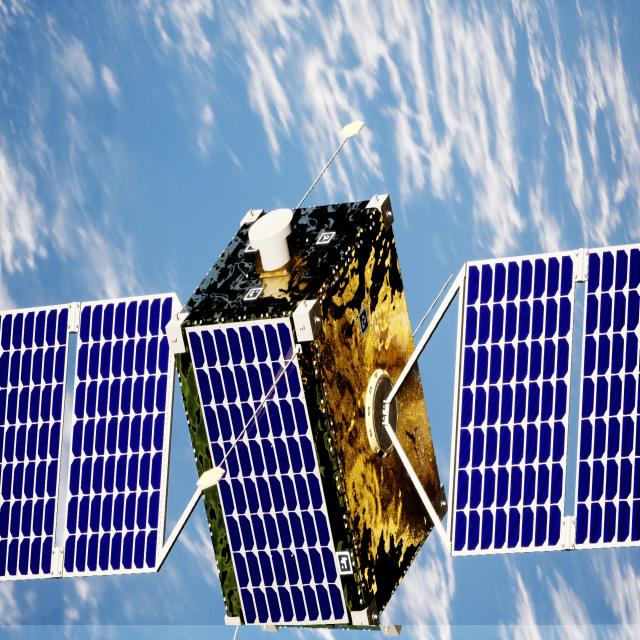medium_debris: (0, 195, 640, 630)
